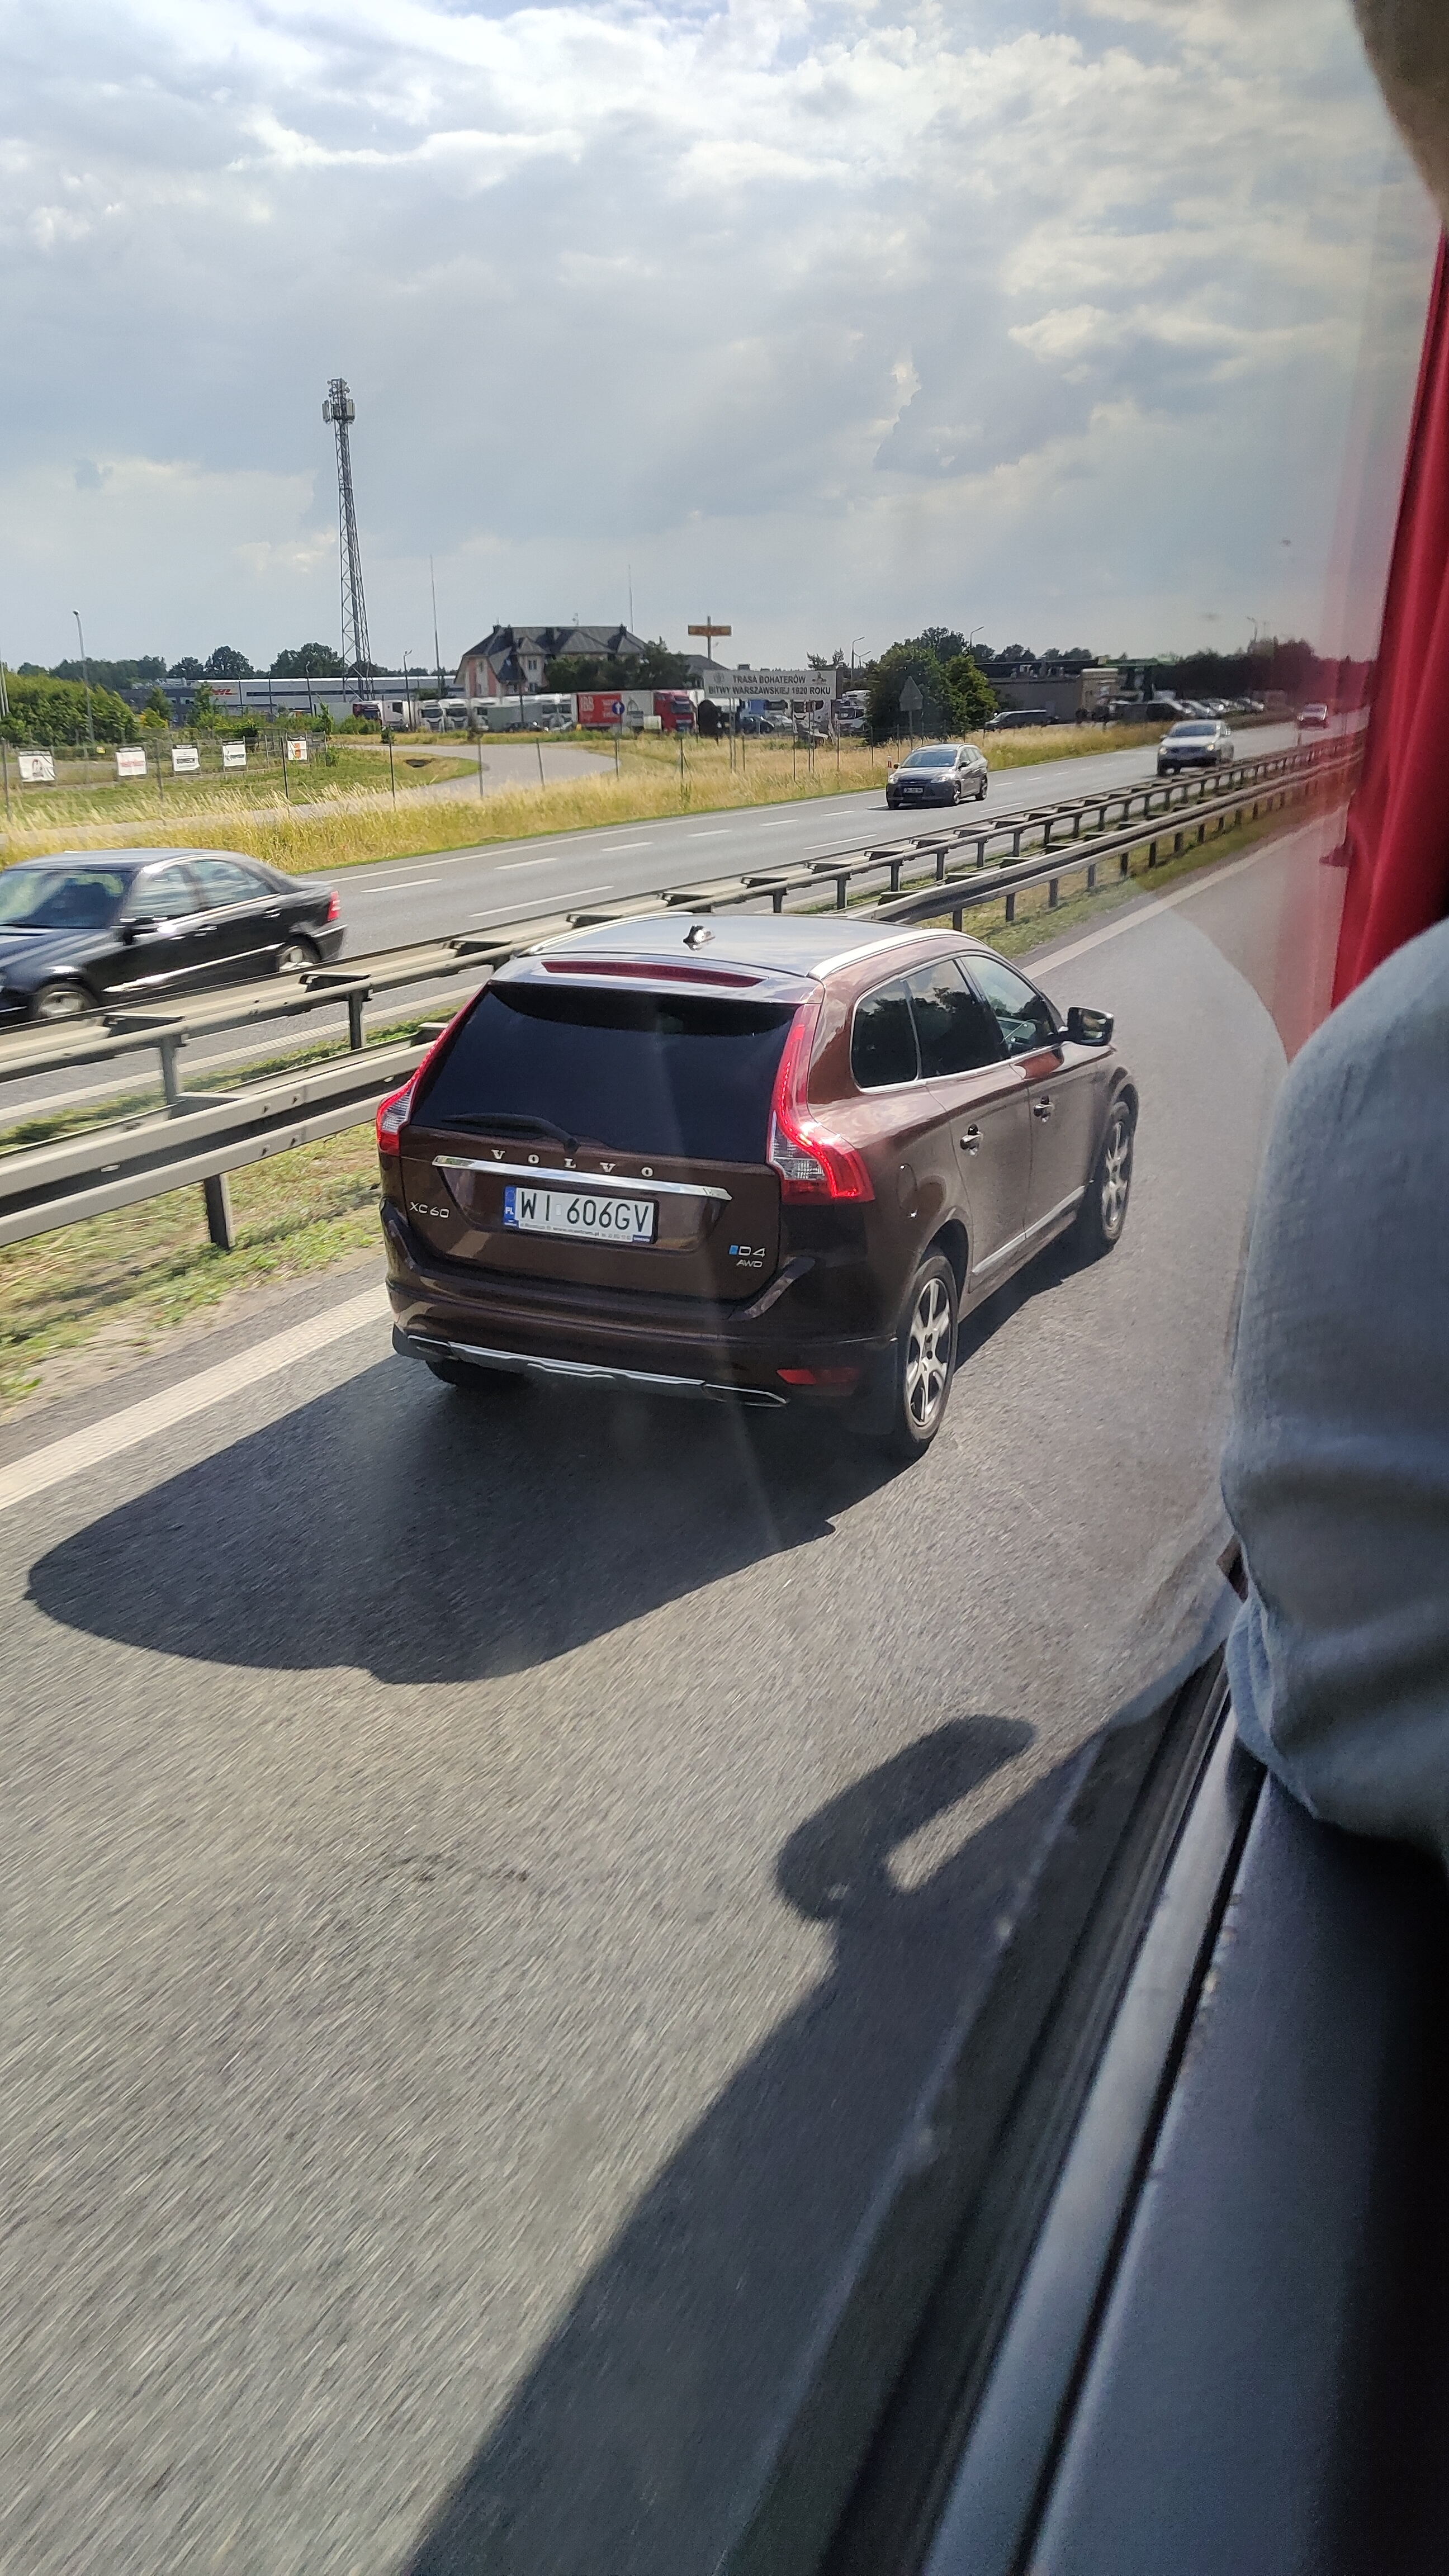number_plate: (504, 1185, 658, 1246)
